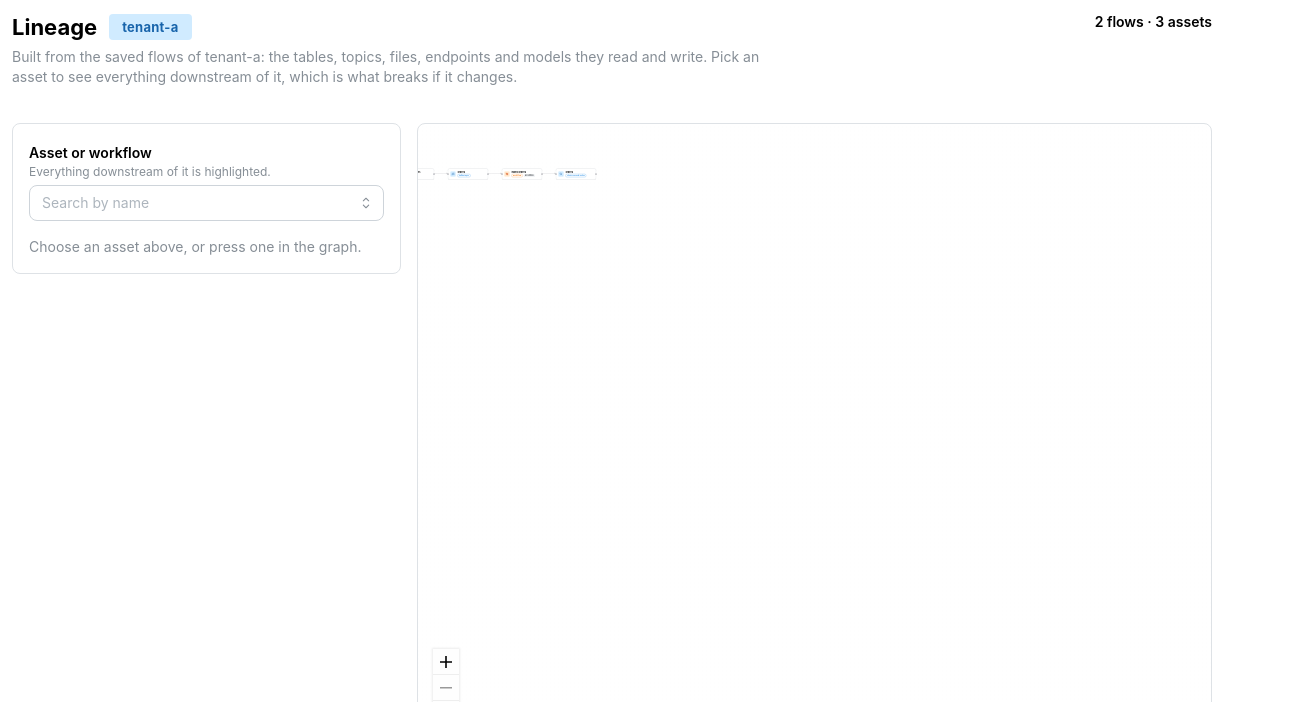
Test: Lineage page › says when nothing is downstream
This screenshot has width=1292, height=702.
Click the button "orders elasticsearch index".
click(576, 174)  # box [556,169,596,180]
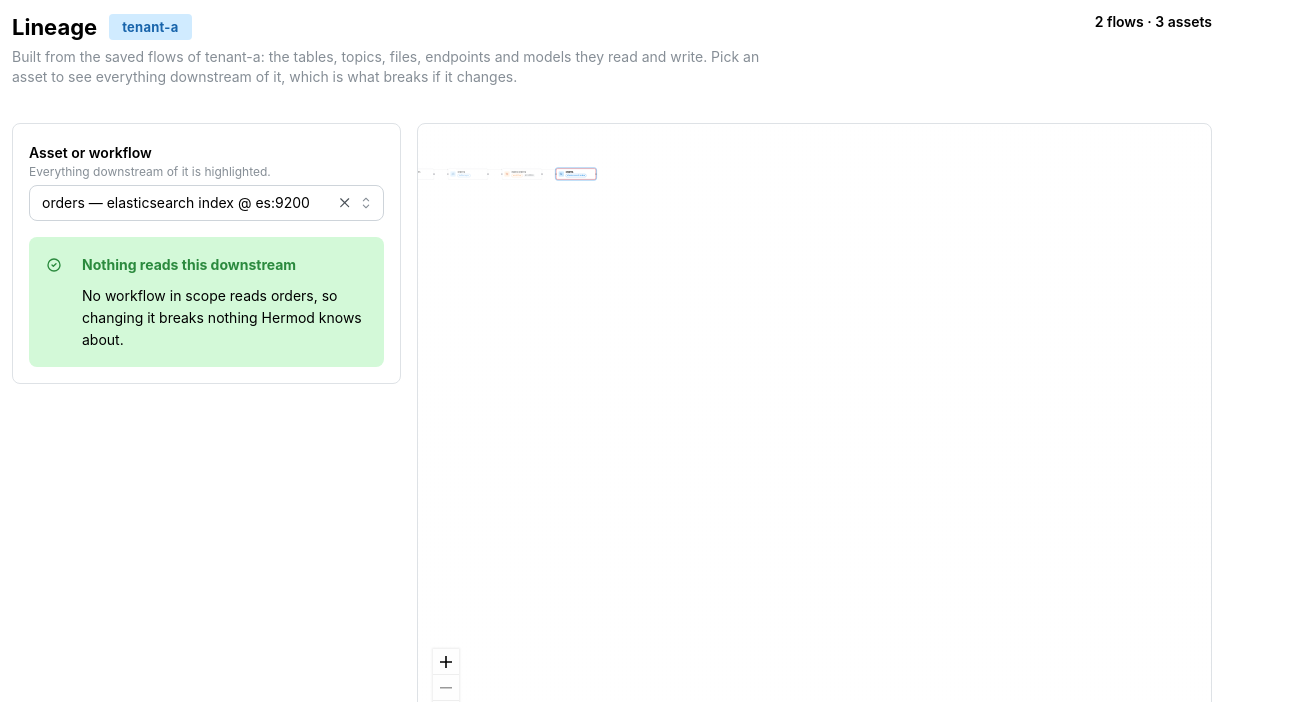
Check: the text "Nothing reads this downstream" is shown, box [82,254,296,275]
